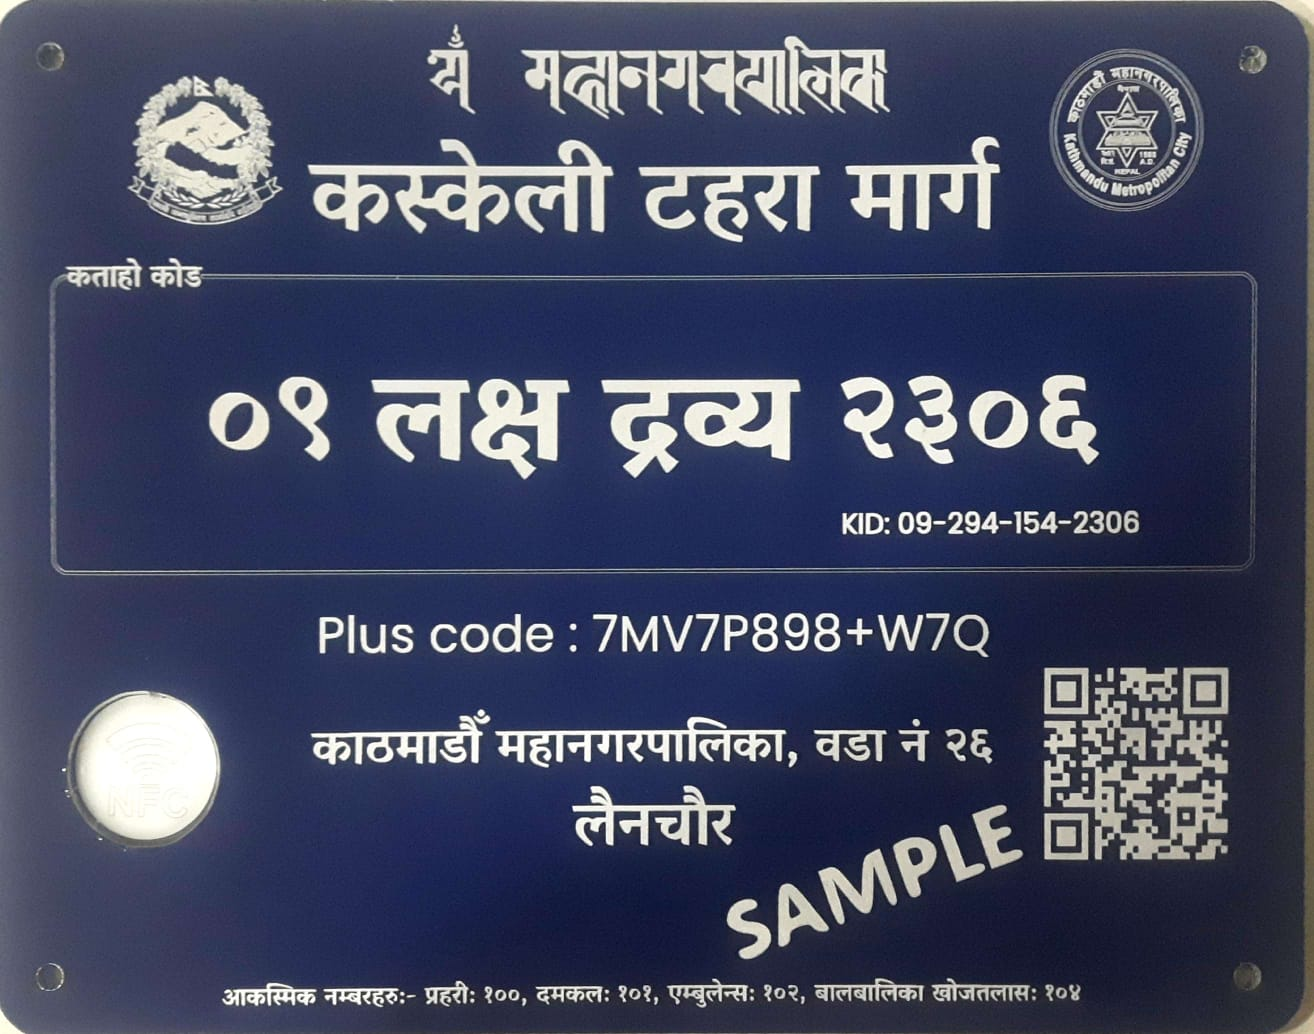Plate: (1, 1, 1313, 1034)
